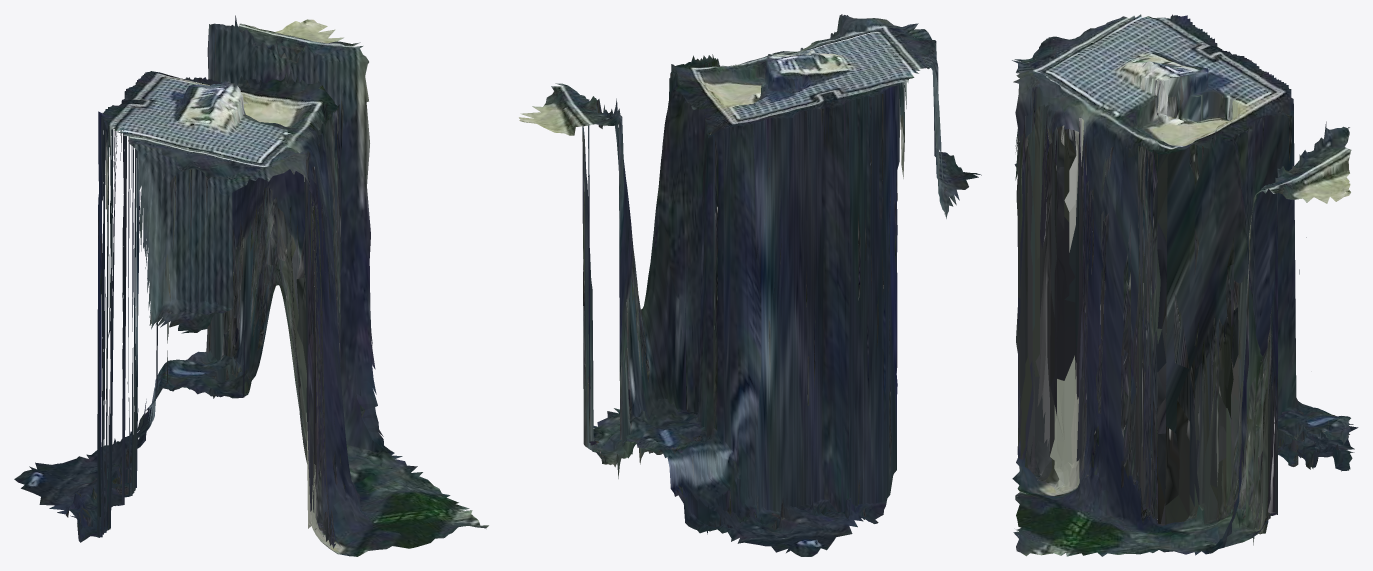
Rendered from Tile_003_002_L14_414.glb.
3 views of the same model, side by side, from view 1: azimuth 30°, elevation 25°; view 2: azimuth 150°, elevation 25°; view 3: azimuth 270°, elevation 25° (orthographic). The views are drawn at different scales.
Visible parts, largest first — view 1: rtc; view 2: rtc; view 3: rtc.
Part boxes in pixels (x1,y1,x2,y2): rtc: [14, 15, 488, 556]; rtc: [519, 14, 981, 556]; rtc: [1012, 14, 1358, 556].
Size of the model in its own units: 71.53 by 95.94 by 71.13.
1 material, 1 textured.
